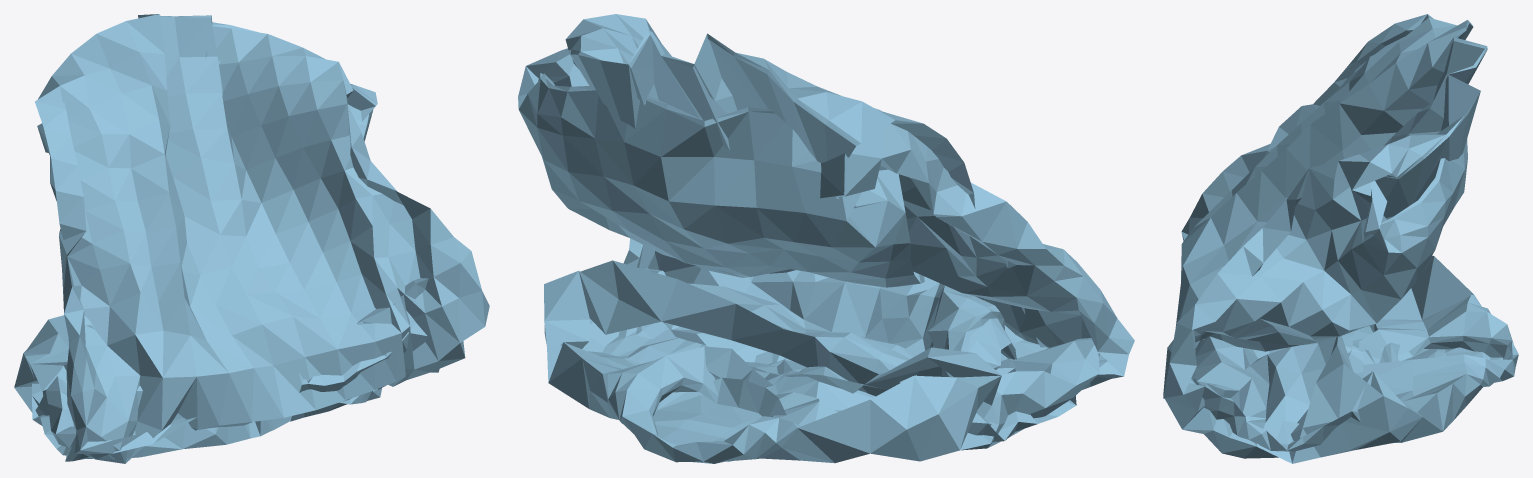
The model's file is frame_17.glb.
3 views of the same model, side by side, from view 1: azimuth 30°, elevation 25°; view 2: azimuth 150°, elevation 25°; view 3: azimuth 270°, elevation 25° (orthographic). The views are drawn at different scales.
Parts seen in each view (by area): view 1: frame_17.obj; view 2: frame_17.obj; view 3: frame_17.obj.
Boxes of the visible parts, x1=… form: frame_17.obj: x1=14, y1=14, x2=489, y2=463; frame_17.obj: x1=518, y1=14, x2=1134, y2=463; frame_17.obj: x1=1163, y1=14, x2=1518, y2=463.
Bounding box in the file's own units: 1.08 × 0.8416 × 0.7725.
